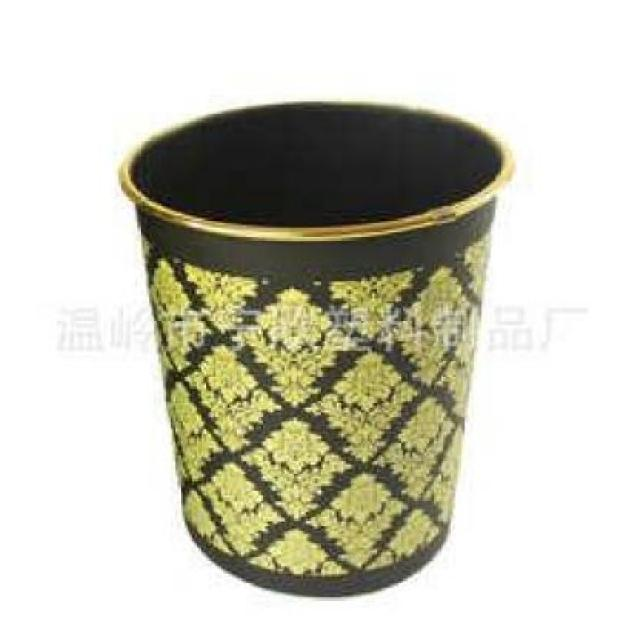dustbin: (111, 92, 524, 605)
